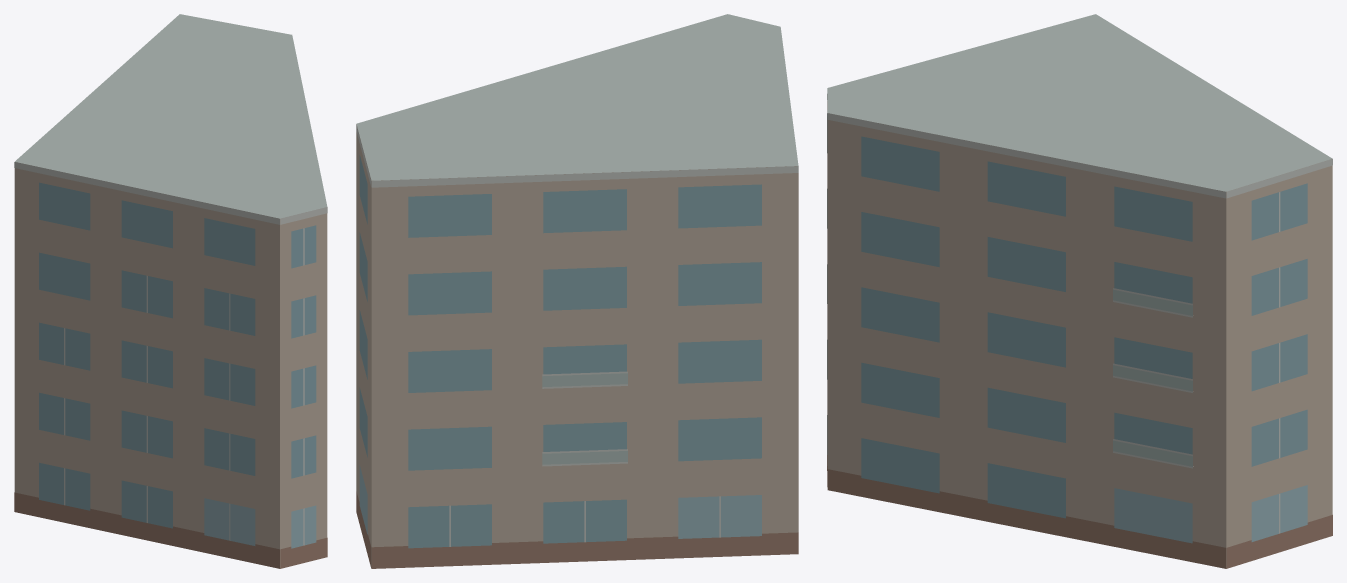
File: survey-upis-32714491.glb
3 views of the same model, side by side, from view 1: azimuth 30°, elevation 25°; view 2: azimuth 150°, elevation 25°; view 3: azimuth 270°, elevation 25° (orthographic). The views are drawn at different scales.
Visible parts, largest first — view 1: survey-upis-32714491.tmp; view 2: survey-upis-32714491.tmp; view 3: survey-upis-32714491.tmp.
Part boxes in pixels (bbox=[...]): survey-upis-32714491.tmp: bbox=[14, 14, 327, 568]; survey-upis-32714491.tmp: bbox=[356, 14, 798, 568]; survey-upis-32714491.tmp: bbox=[827, 14, 1332, 568].
Bounding box in the file's own units: 13.76 × 13.6 × 16.54.
